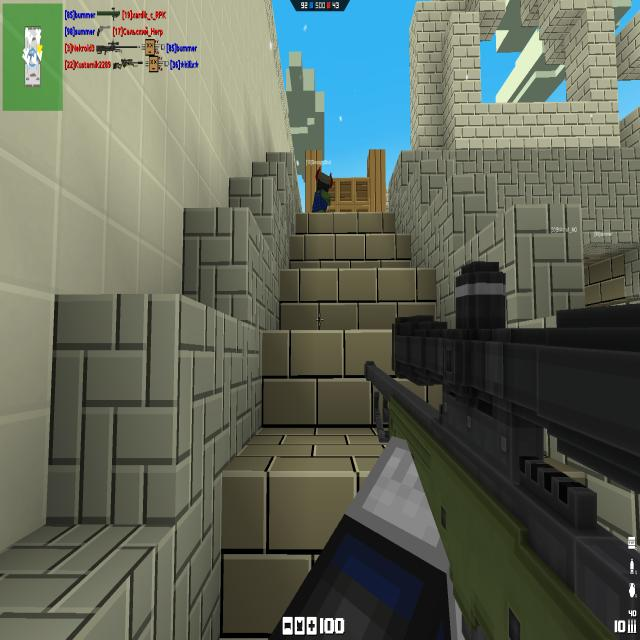player: (311, 169, 333, 213)
